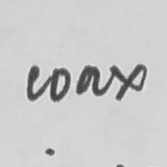a: (74, 62, 103, 99)
c: (23, 63, 45, 103)
o: (47, 65, 72, 103)
x: (106, 60, 148, 102)
